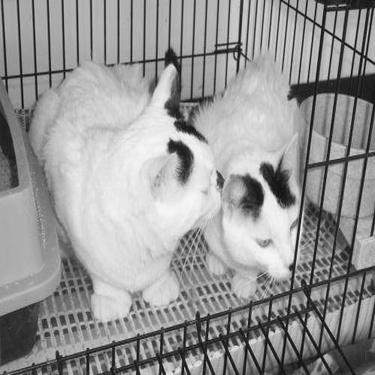cat: (21, 43, 225, 291), (201, 34, 311, 293)
